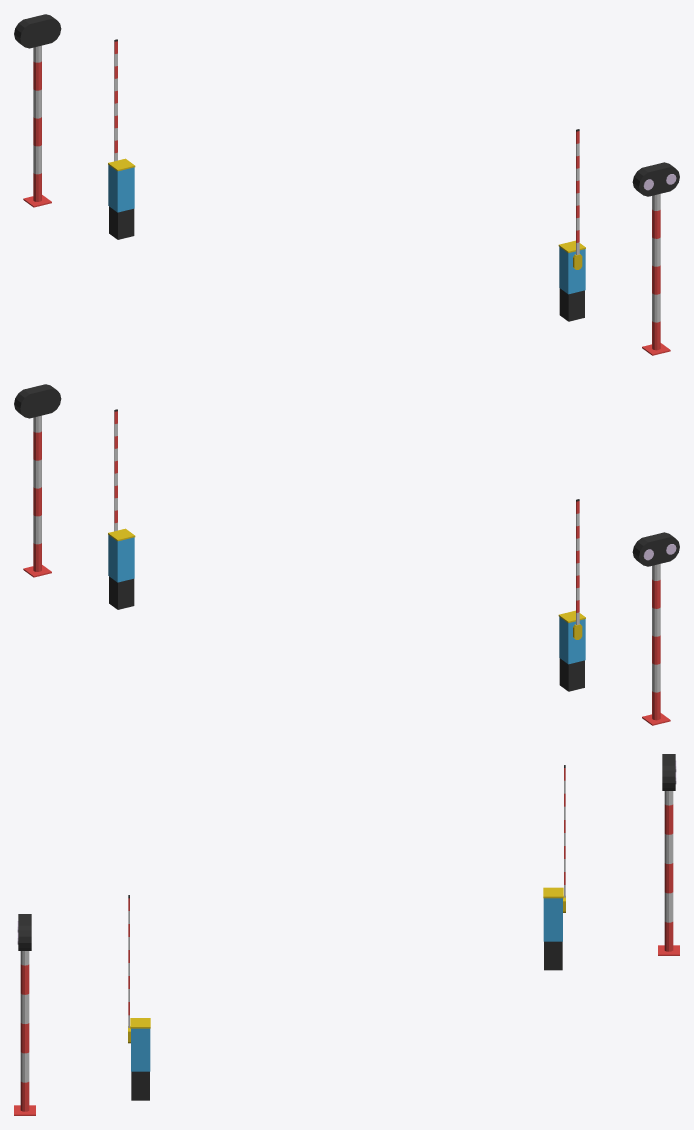
Rendered from SystemPrzejazdowy.fbx.
3 views of the same model, one above another, from view 1: azimuth 30°, elevation 25°; view 2: azimuth 210°, elevation 25°; view 3: azimuth 270°, elevation 25° (orthographic). The views are drawn at different scales.
Parts seen in each view (by area): view 1: RSemaphorePole, LSemaphorePole, RBox, LBox, LBarrier; view 2: LSemaphorePole, RSemaphorePole, LBox, RBox, RBarrier; view 3: LSemaphorePole, RSemaphorePole, RBox, LBox.
Part boxes in pixels (box(x1,y1,x2,y2)): RSemaphorePole: box(14, 14, 61, 207); LSemaphorePole: box(632, 162, 679, 355); RBox: box(108, 158, 135, 239); LBox: box(558, 240, 585, 321); LBarrier: box(573, 129, 582, 269); LSemaphorePole: box(14, 384, 61, 577); RSemaphorePole: box(632, 532, 679, 725); LBox: box(108, 528, 135, 609); RBox: box(558, 610, 585, 691); RBarrier: box(573, 499, 582, 639); LSemaphorePole: box(14, 914, 35, 1115); RSemaphorePole: box(658, 754, 679, 955); RBox: box(543, 887, 563, 970); LBox: box(130, 1018, 150, 1100).
Bounding box in the file's own units: 830 × 429 × 1291.
